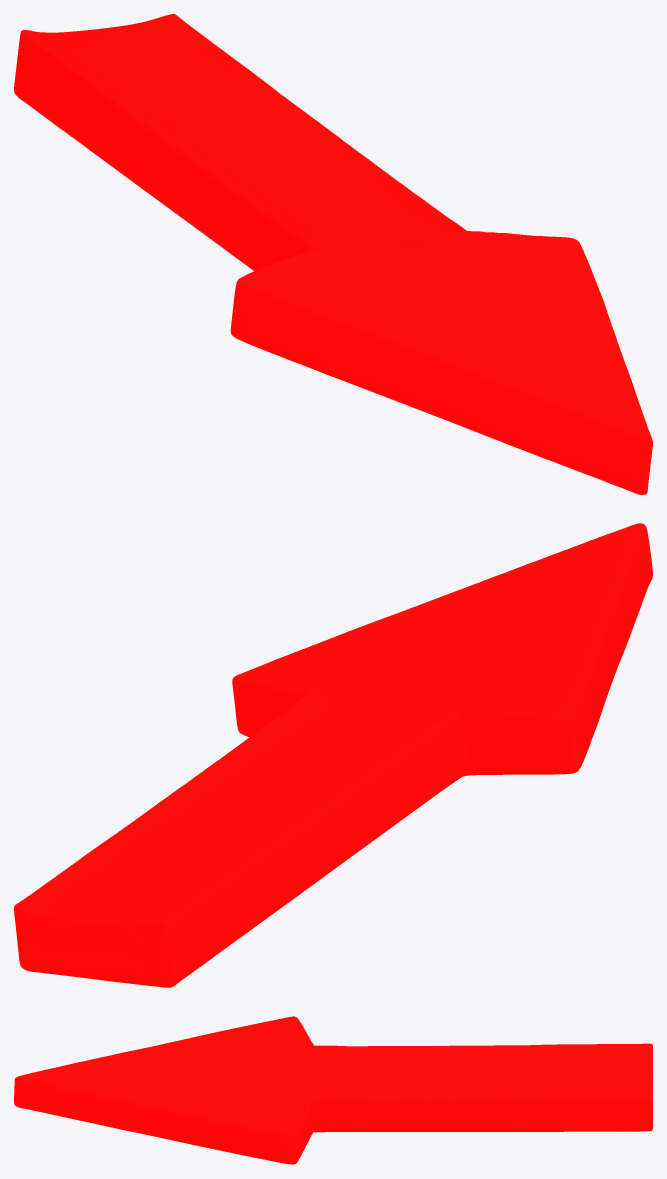
The model's file is modelred.glb.
3 views of the same model, one above another, from view 1: azimuth 30°, elevation 25°; view 2: azimuth 150°, elevation 25°; view 3: azimuth 270°, elevation 25° (orthographic). The views are drawn at different scales.
Visible parts, largest first — view 1: Mesh_0.005; view 2: Mesh_0.005; view 3: Mesh_0.005.
Part boxes in pixels (x1,y1,x2,y2): Mesh_0.005: (14,14,652,494); Mesh_0.005: (14,523,652,987); Mesh_0.005: (14,1016,652,1164).
Bounding box in the file's own units: 0.7196 × 0.1978 × 2.
